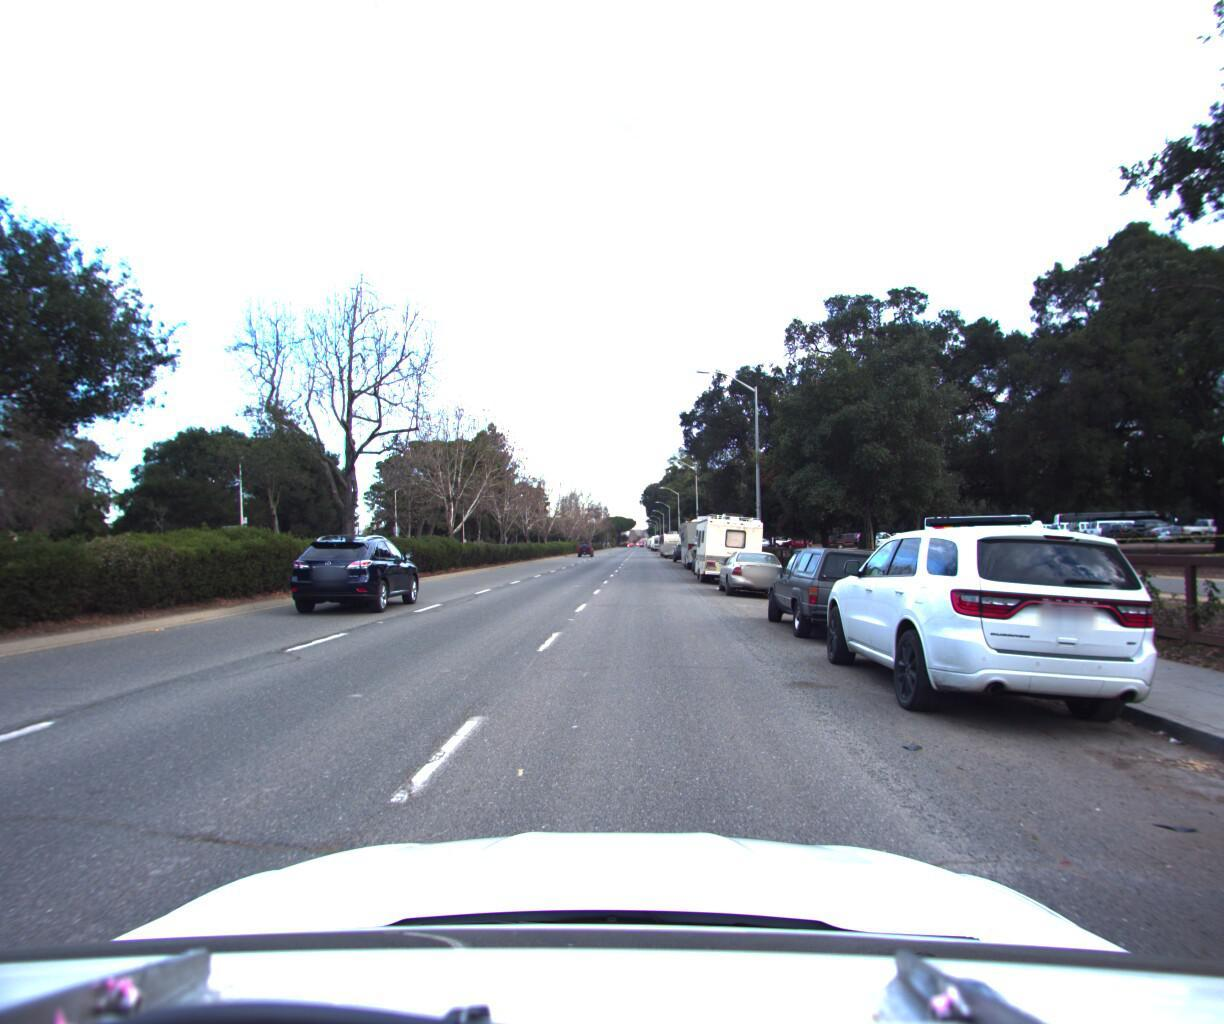car: (805, 516, 1201, 744), (753, 537, 941, 641), (285, 530, 427, 615), (708, 543, 788, 596), (668, 542, 699, 562)
other_vehicle: (685, 504, 773, 580), (674, 507, 735, 567), (657, 526, 685, 554)
